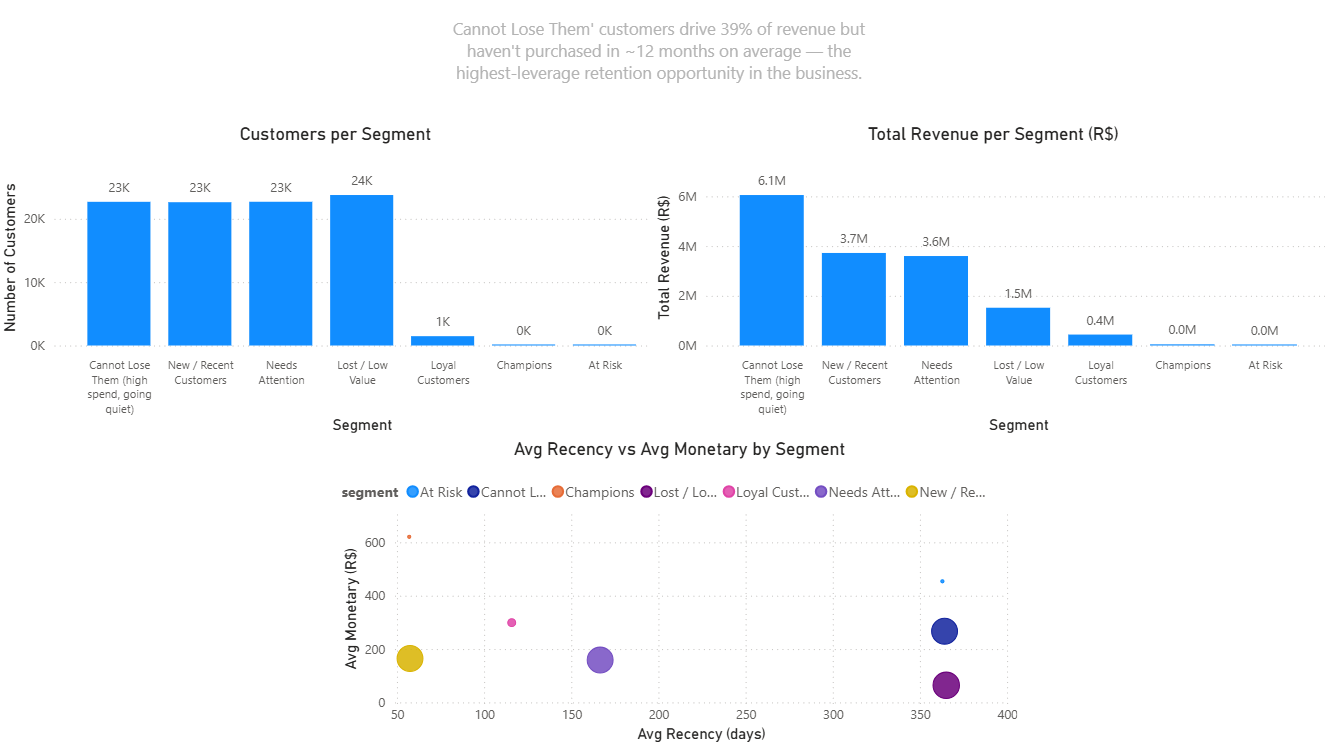

The page's visual inventory and layout, read from the dashboard file:
{"tool":"powerbi","page":{"name":"Page 2","canvas":[1280,720],"ordinal":1},"visuals":[{"type":"clusteredColumnChart","title":"Customers per Segment","fields":{"Category":["customer_rfm_segments.segment"],"Y":["CountNonNull(customer_rfm_segments.customer_unique_id)"]},"box":[0,125,648.3,300],"z":0},{"type":"clusteredColumnChart","title":"Total Revenue per Segment (R$)","fields":{"Category":["customer_rfm_segments.segment"],"Y":["Sum(customer_rfm_segments.monetary)"]},"box":[625,125,655,300],"z":1000},{"type":"scatterChart","title":"Avg Recency vs Avg Monetary by Segment","fields":{"X":["Avg(customer_rfm_segments.recency)"],"Y":["Avg(customer_rfm_segments.monetary)"],"Series":["customer_rfm_segments.segment"],"Size":["CountNonNull(customer_rfm_segments.customer_unique_id)"]},"box":[325,425,655,295],"z":2000},{"type":"textbox","box":[0,425,325,295],"z":3000},{"type":"textbox","box":[420,16.7,426.7,91.7],"z":4000}]}

Visuals, with their boxes in screenshot pixels (x1, y1, x2, y2), scaled from the page's 1280x720 canvas onto the 1326x746 screenshot:
"Customers per Segment" clusteredColumnChart: <region>0, 130, 672, 440</region>
"Total Revenue per Segment (R$)" clusteredColumnChart: <region>647, 130, 1325, 440</region>
"Avg Recency vs Avg Monetary by Segment" scatterChart: <region>337, 440, 1015, 745</region>
textbox: <region>0, 440, 337, 745</region>
textbox: <region>435, 17, 877, 112</region>
